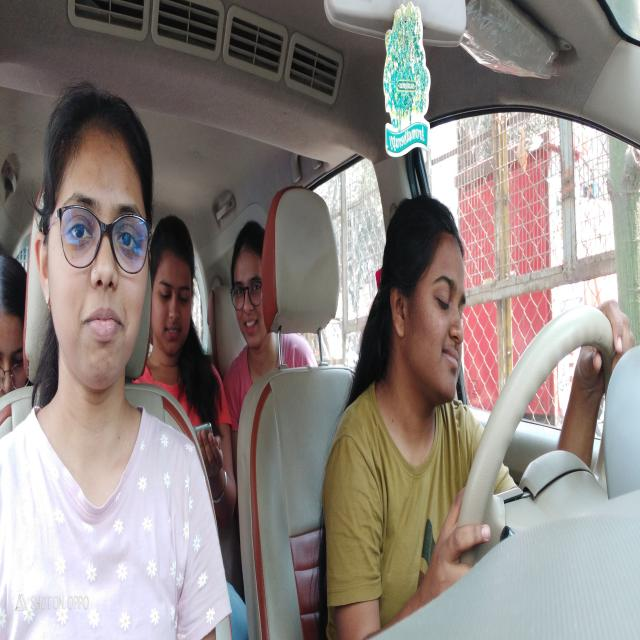drowsy: (380, 185, 474, 422)
person: (35, 82, 155, 414), (228, 215, 275, 372), (151, 212, 196, 364), (0, 243, 28, 431)
